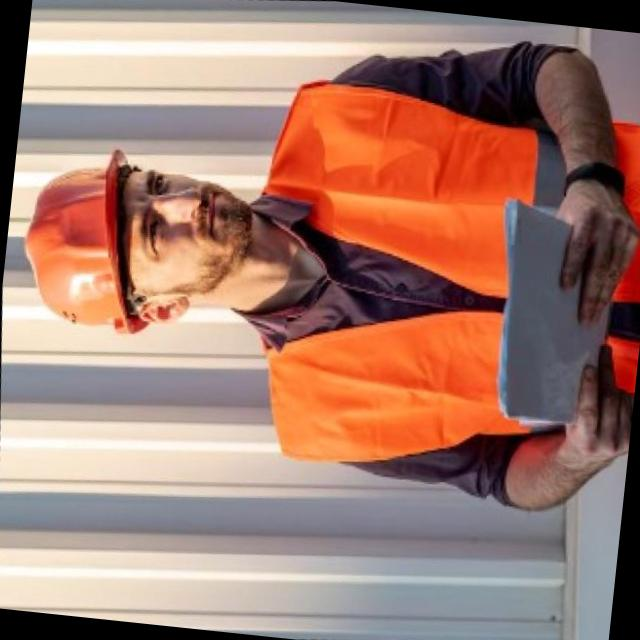not-gloved: (536, 169, 640, 325), (538, 354, 638, 488)
